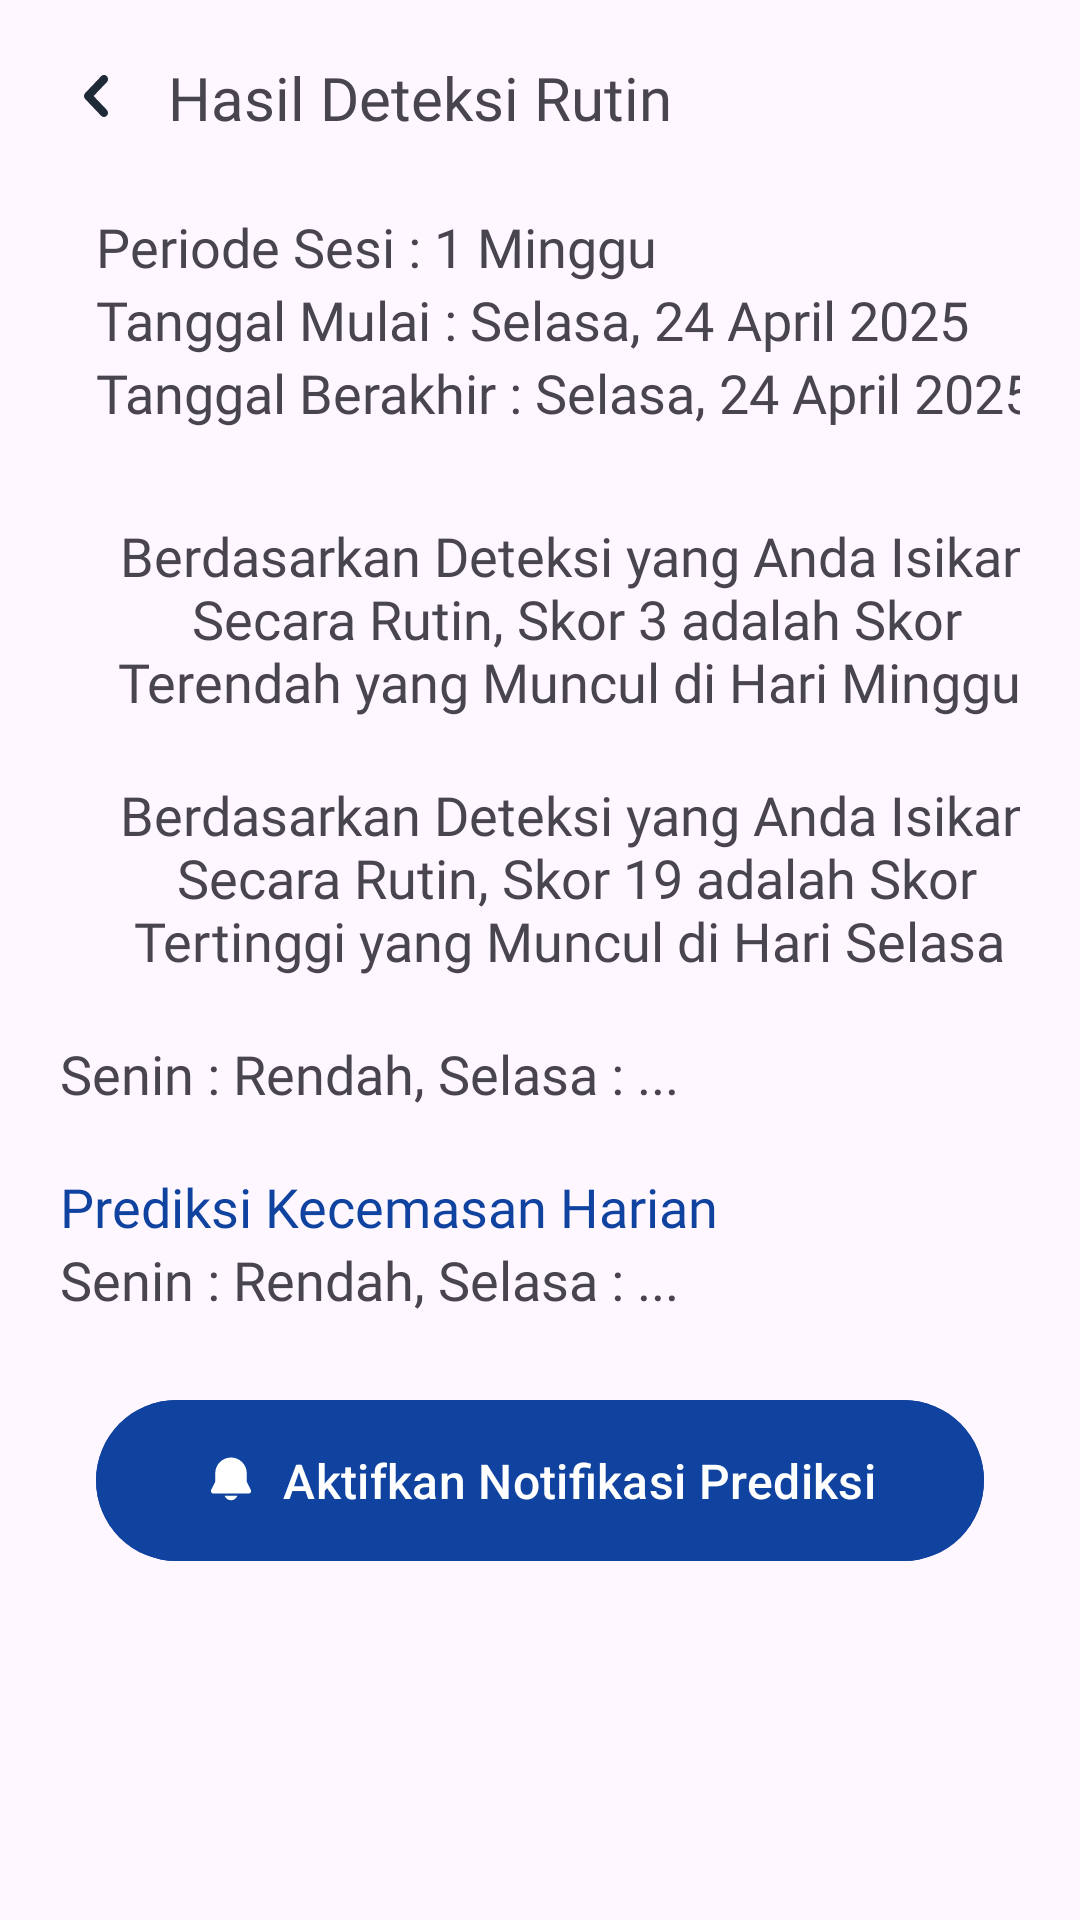

Screen size 1080w x 1920h. Icon name, then its box in pixels as (x1,y1,x2,y2):
Back: (84,75,108,117)
